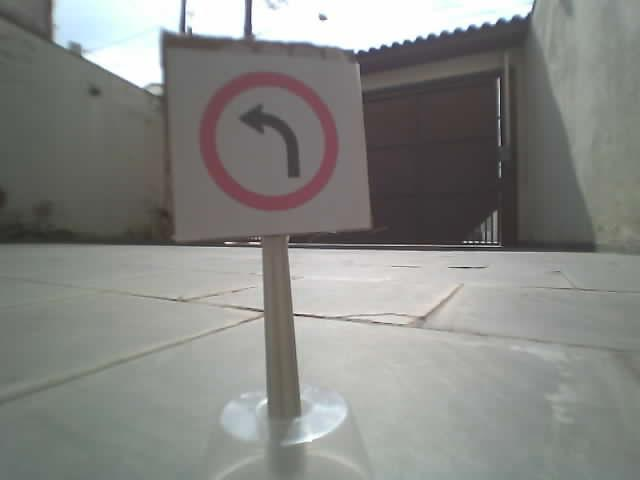R-25a_esquerda: (198, 70, 339, 210)
